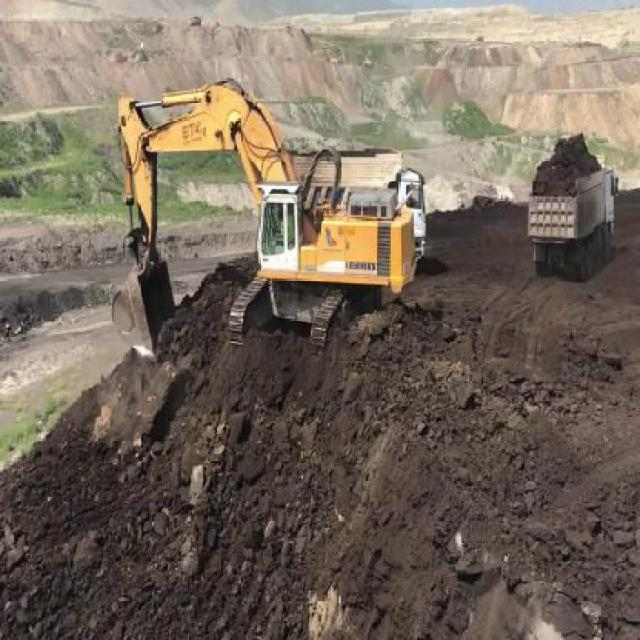dump_truck: (265, 147, 430, 239), (525, 146, 618, 276)
excavator: (96, 77, 418, 383)
